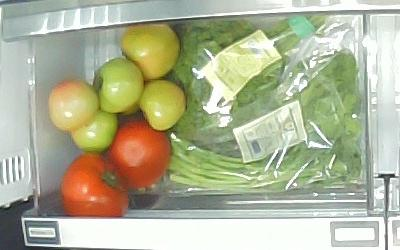tomato: (104, 117, 173, 190), (60, 153, 130, 217), (121, 24, 180, 80), (93, 57, 144, 113), (49, 79, 99, 131), (138, 80, 185, 130), (71, 108, 118, 151)
